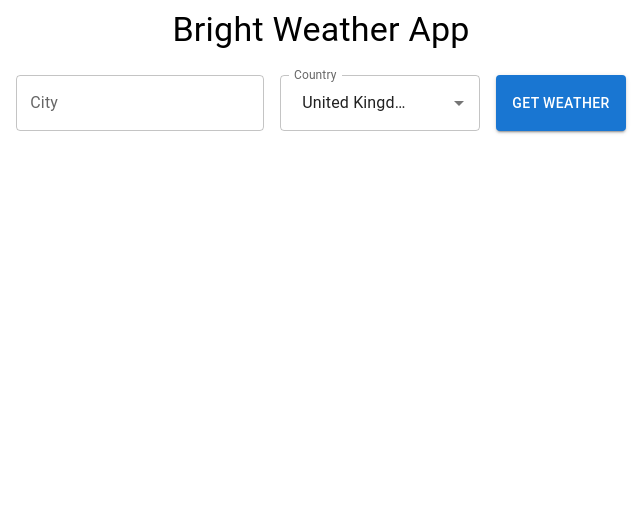
Test: Weather component › adds a city successfully
Type "London" into the field labelled "City".
click(140, 103); type("London")  # box [16,75,264,131]
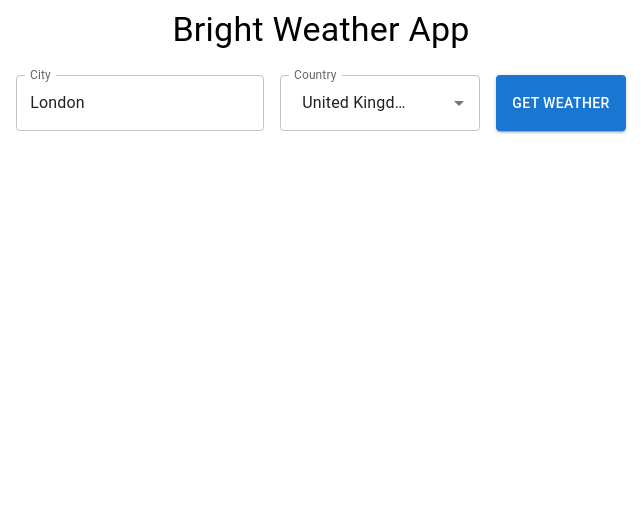
Click the button "Get Weather".
click(561, 103)  # box [496,75,626,131]
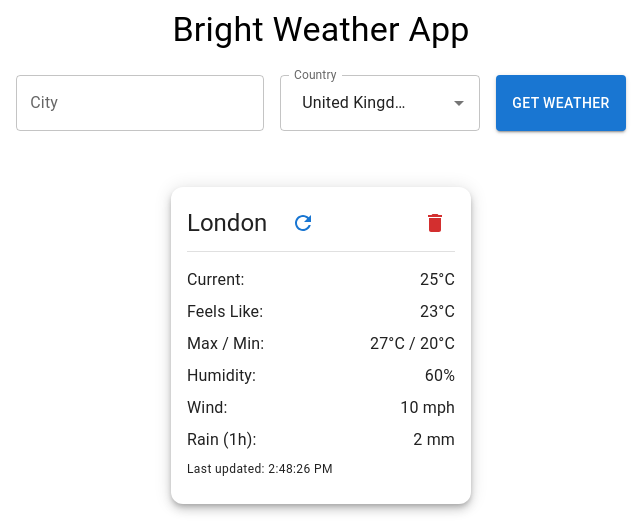
Now the heading "London" is shown, box [187,207,267,239]
Now the text "25°C" is shown, box [420,268,455,292]
Now the text "2 mm" is shown, box [413,428,455,452]
